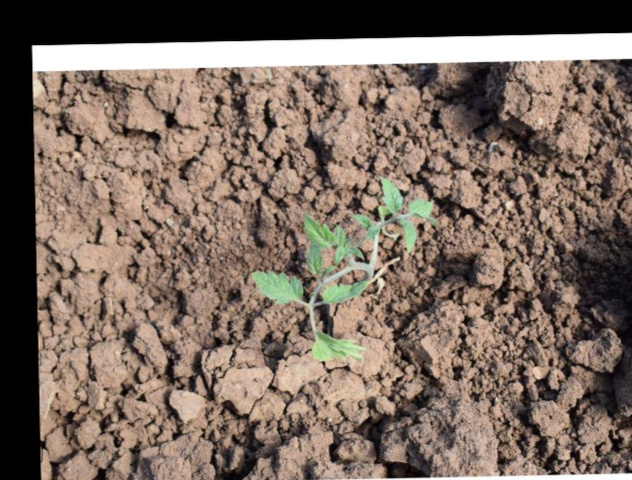tomato: (249, 179, 437, 362)
